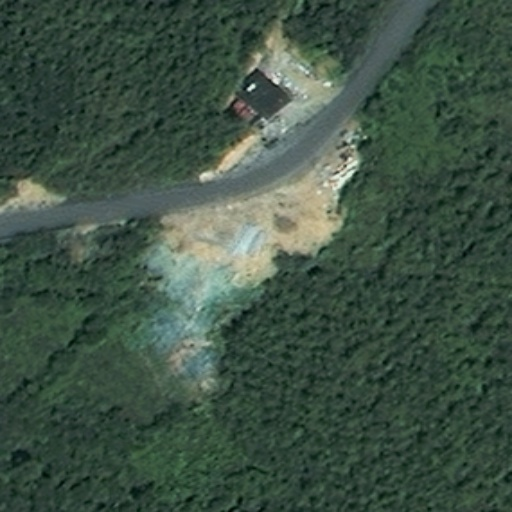landslide: (165, 164, 348, 257)
